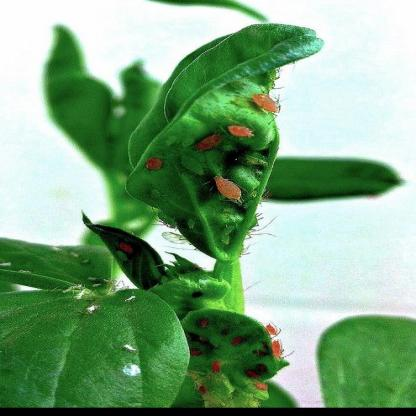aphid: (206, 174, 250, 205), (159, 231, 201, 256), (253, 86, 283, 120), (193, 130, 226, 152), (177, 155, 209, 177), (225, 122, 264, 139), (148, 208, 177, 230), (242, 362, 273, 378), (269, 340, 293, 359), (139, 154, 167, 170), (260, 321, 283, 338), (208, 358, 226, 375), (112, 250, 134, 263), (226, 335, 247, 348), (250, 380, 270, 393), (196, 318, 216, 330), (215, 233, 233, 246), (191, 344, 208, 357), (116, 242, 134, 254), (220, 224, 240, 234), (184, 218, 199, 230), (149, 190, 165, 200), (186, 332, 200, 340)
